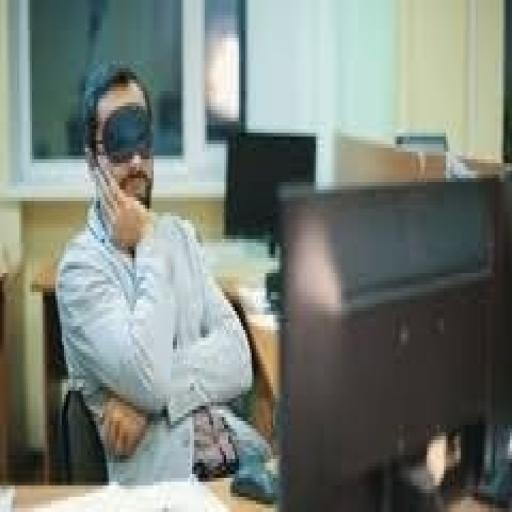sleeping: (53, 57, 256, 485)
